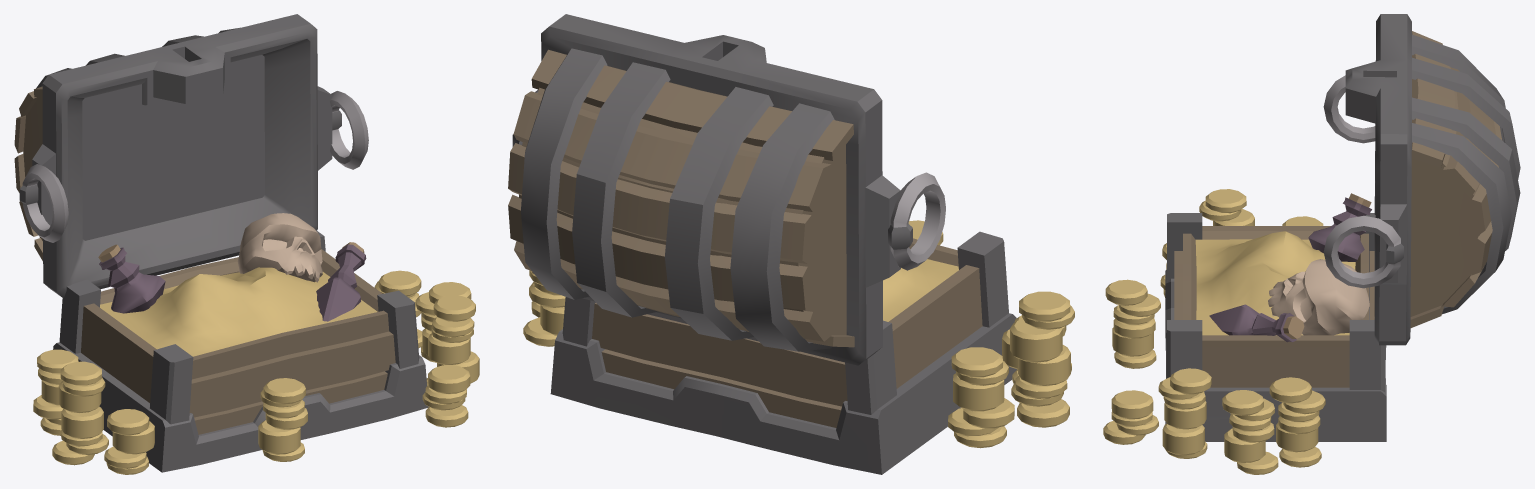
The model's file is Prop_Chest_Gold.glb.
3 renders of one model, left to right at view 1: azimuth 30°, elevation 25°; view 2: azimuth 150°, elevation 25°; view 3: azimuth 270°, elevation 25°, orthographic. The views are drawn at different scales.
Parts seen in each view (by area): view 1: Prop_Chest_Gold; view 2: Prop_Chest_Gold; view 3: Prop_Chest_Gold.
Boxes of the visible parts, <box> form: Prop_Chest_Gold: <box>14,14,479,474</box>; Prop_Chest_Gold: <box>508,14,1074,474</box>; Prop_Chest_Gold: <box>1103,14,1520,474</box>.
Size of the model in its own units: 1.82 by 1.29 by 1.59.
